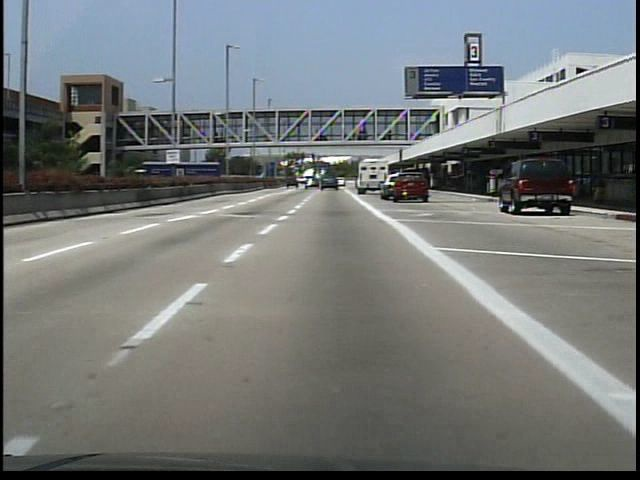person: (416, 172, 433, 202)
